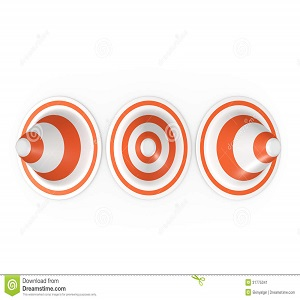traffic cone: (16, 96, 103, 200), (106, 96, 192, 199), (196, 96, 282, 199)
